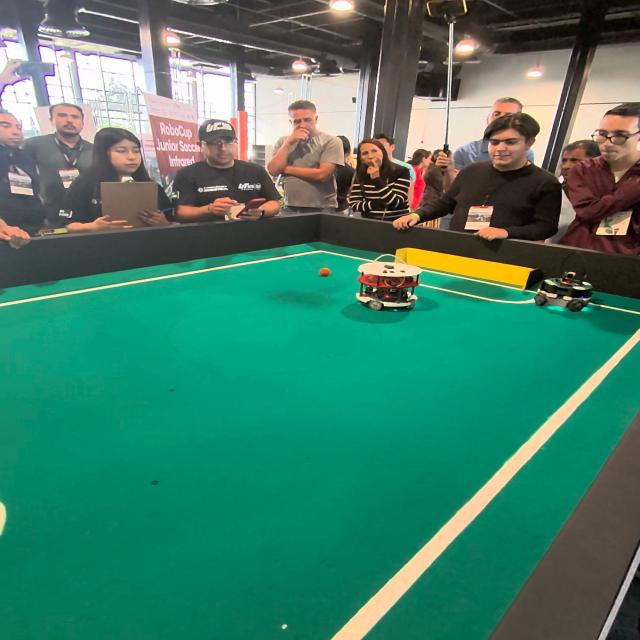Robot: (353, 252, 421, 319), (531, 252, 596, 316)
pelota: (317, 259, 334, 288)
